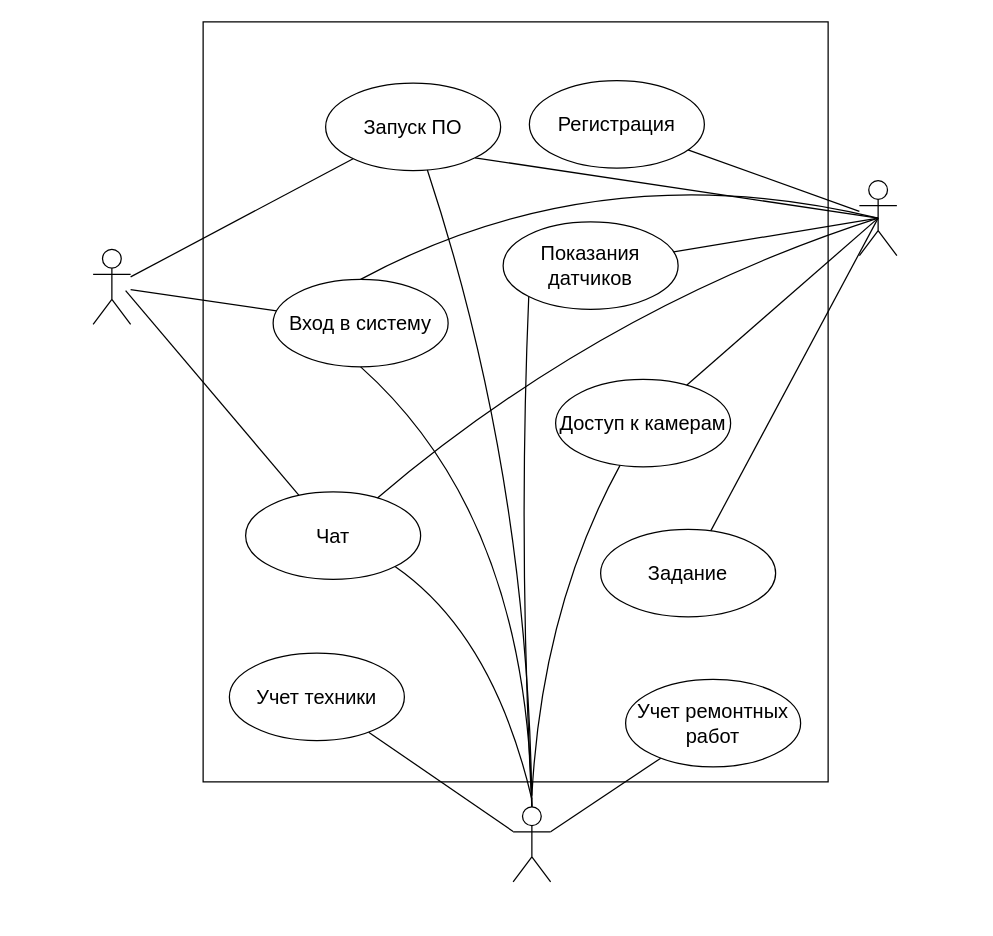
The diagram is 993 pixels wide and 936 high, and some of its shapes have lost their labels. Here are the shapes that lost their labels. From the top down, the centre of each, then its label:
At (877,217): "Начальник колонны".
At (111,286): "Водитель-оператор".
At (531,844): "Мастер участка".
